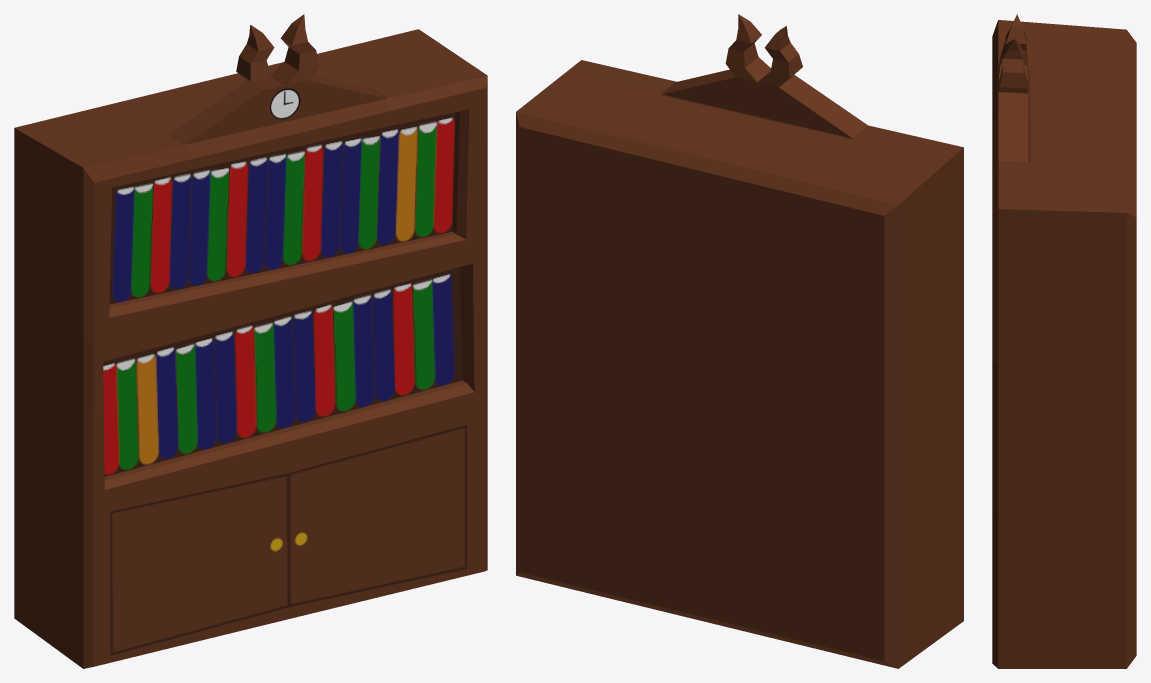
Rendered from Shelf.fbx.
3 renders of one model, left to right at view 1: azimuth 30°, elevation 25°; view 2: azimuth 150°, elevation 25°; view 3: azimuth 270°, elevation 25°, orthographic. The views are drawn at different scales.
Parts seen in each view (by area): view 1: Estante; view 2: Estante; view 3: Estante.
Boxes of the visible parts, left/top/right/bottom form: Estante: left=14, top=14, right=487, bottom=668; Estante: left=516, top=14, right=963, bottom=668; Estante: left=992, top=14, right=1136, bottom=668.
Size of the model in its own units: 6.01 by 8.42 by 2.
1 material, 1 textured.
